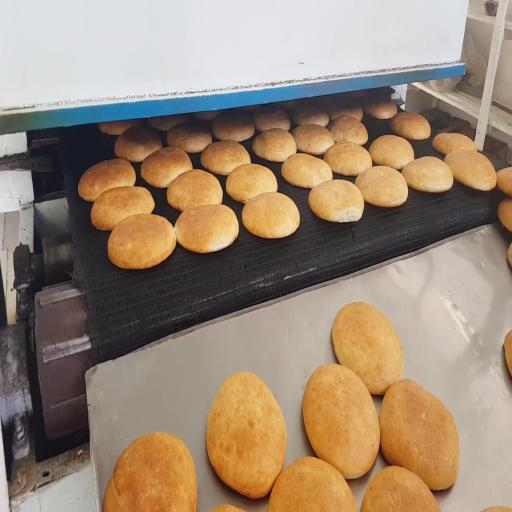bread: (207, 372, 286, 498), (379, 380, 459, 490), (303, 364, 380, 478), (103, 433, 197, 511), (332, 302, 403, 395), (268, 457, 357, 511), (108, 214, 176, 269), (361, 466, 440, 511), (175, 205, 238, 253), (91, 187, 154, 230), (242, 192, 299, 238), (78, 159, 135, 201), (309, 180, 363, 222), (167, 170, 222, 211), (355, 166, 408, 207), (445, 150, 496, 191), (141, 147, 192, 188), (226, 164, 277, 202), (402, 156, 453, 192), (115, 125, 162, 162), (201, 140, 250, 175), (282, 154, 332, 188), (324, 142, 372, 176), (369, 135, 414, 170), (252, 128, 296, 162), (167, 123, 211, 153), (212, 111, 254, 142), (292, 125, 334, 155), (329, 116, 368, 145), (390, 112, 430, 140), (253, 105, 290, 132), (433, 133, 477, 155), (292, 101, 329, 127), (148, 114, 190, 131), (99, 119, 143, 135), (364, 100, 397, 119), (328, 104, 363, 121), (496, 168, 512, 196), (498, 198, 511, 231), (271, 100, 300, 112), (504, 331, 511, 375), (193, 110, 222, 120), (238, 105, 259, 115), (345, 90, 367, 99), (211, 505, 243, 511), (483, 507, 511, 511), (507, 244, 511, 267)
